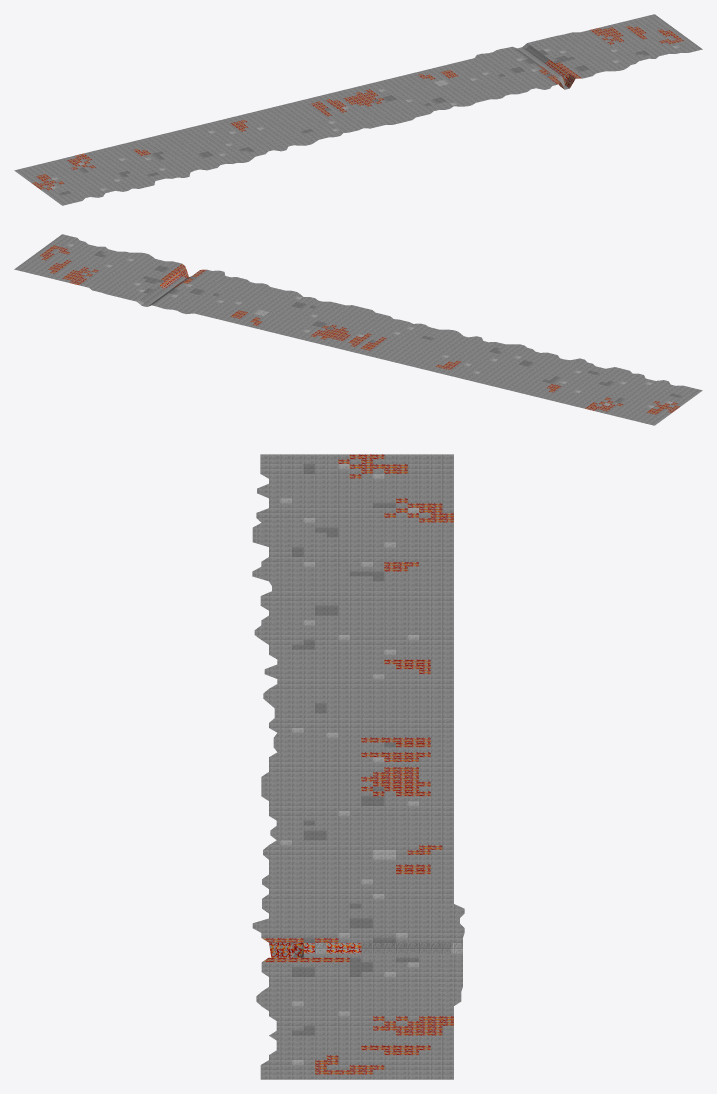
File: WallNear.obj
3 renders of one model, top to bottom at view 1: azimuth 30°, elevation 25°; view 2: azimuth 150°, elevation 25°; view 3: azimuth 270°, elevation 25°, orthographic. The views are drawn at different scales.
Parts seen in each view (by area): view 1: WallNear; view 2: WallNear; view 3: WallNear.
Boxes of the visible parts, box(x1,y1,x2,y2) form: WallNear: box(14, 14, 702, 205); WallNear: box(14, 234, 702, 425); WallNear: box(252, 454, 464, 1079).
Size of the model in its own units: 128 by 1.83 by 18.36.
